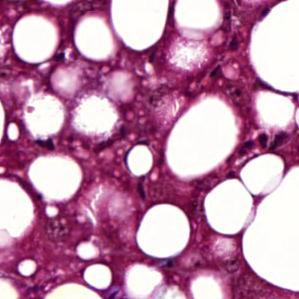steatosis: (138, 201, 193, 258), (12, 12, 59, 66), (126, 142, 158, 176)
